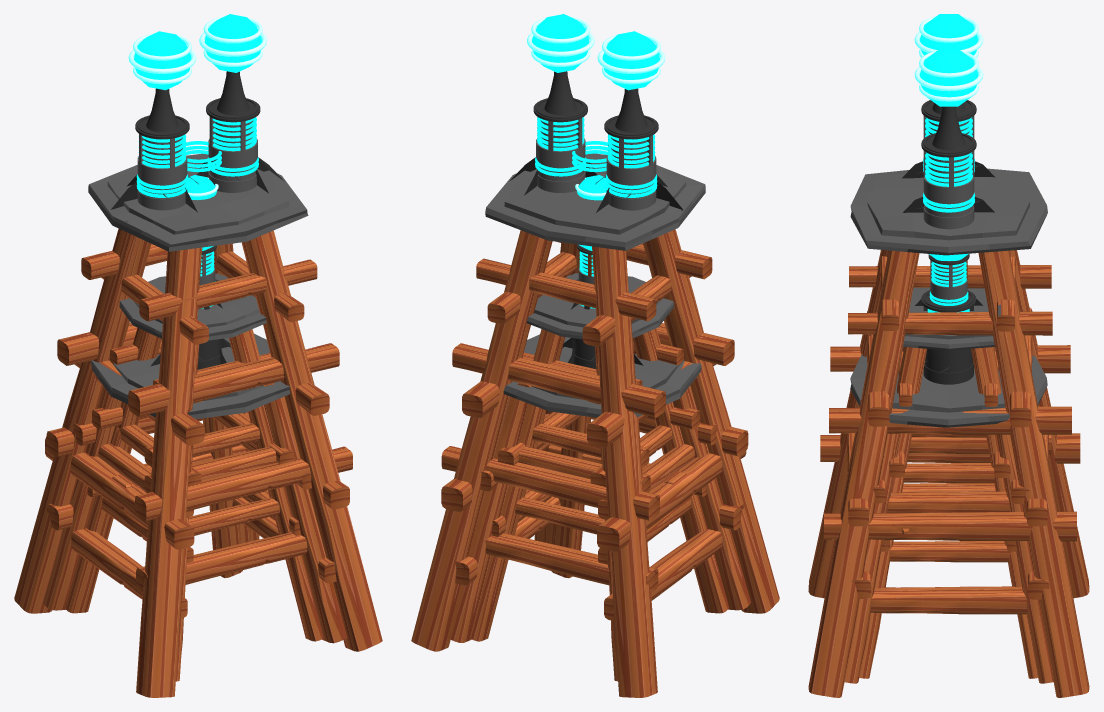
File: TeslaTowers.fbx
3 views of the same model, side by side, from view 1: azimuth 30°, elevation 25°; view 2: azimuth 150°, elevation 25°; view 3: azimuth 270°, elevation 25° (orthographic).
Visible parts, largest first — view 1: Tower3, Tower1, Tower2; view 2: Tower3, Tower1, Tower2; view 3: Tower3, Tower1, Tower2.
Part boxes in pixels (box(x1,y1,x2,y2)): Tower3: box(14, 14, 382, 697); Tower1: box(43, 246, 346, 681); Tower2: box(65, 175, 323, 641); Tower3: box(411, 14, 779, 697); Tower1: box(447, 244, 750, 681); Tower2: box(470, 175, 729, 641); Tower3: box(808, 14, 1089, 697); Tower1: box(844, 253, 1071, 683); Tower2: box(859, 254, 1038, 678).
Bounding box in the file's own units: 255 × 622 × 259.
